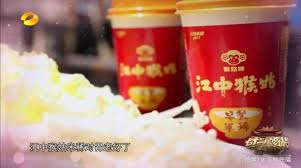cup: (181, 2, 293, 147), (111, 2, 178, 106)
